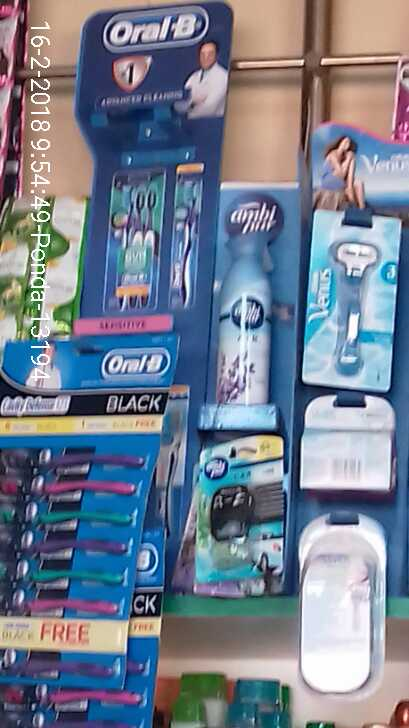beauty: (303, 204, 402, 397), (300, 519, 391, 691), (299, 397, 399, 496)
home: (197, 453, 283, 597), (215, 229, 273, 401)
